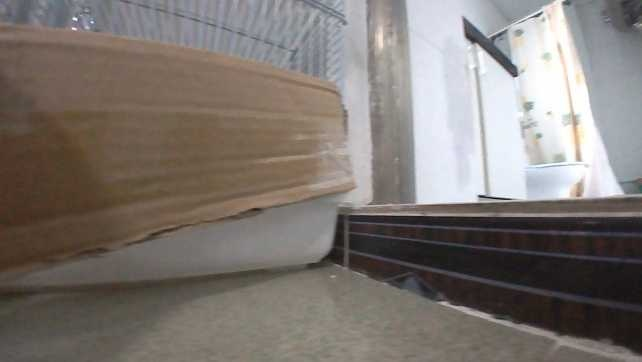door_sill: (337, 197, 641, 351)
toilet: (520, 156, 588, 195)
